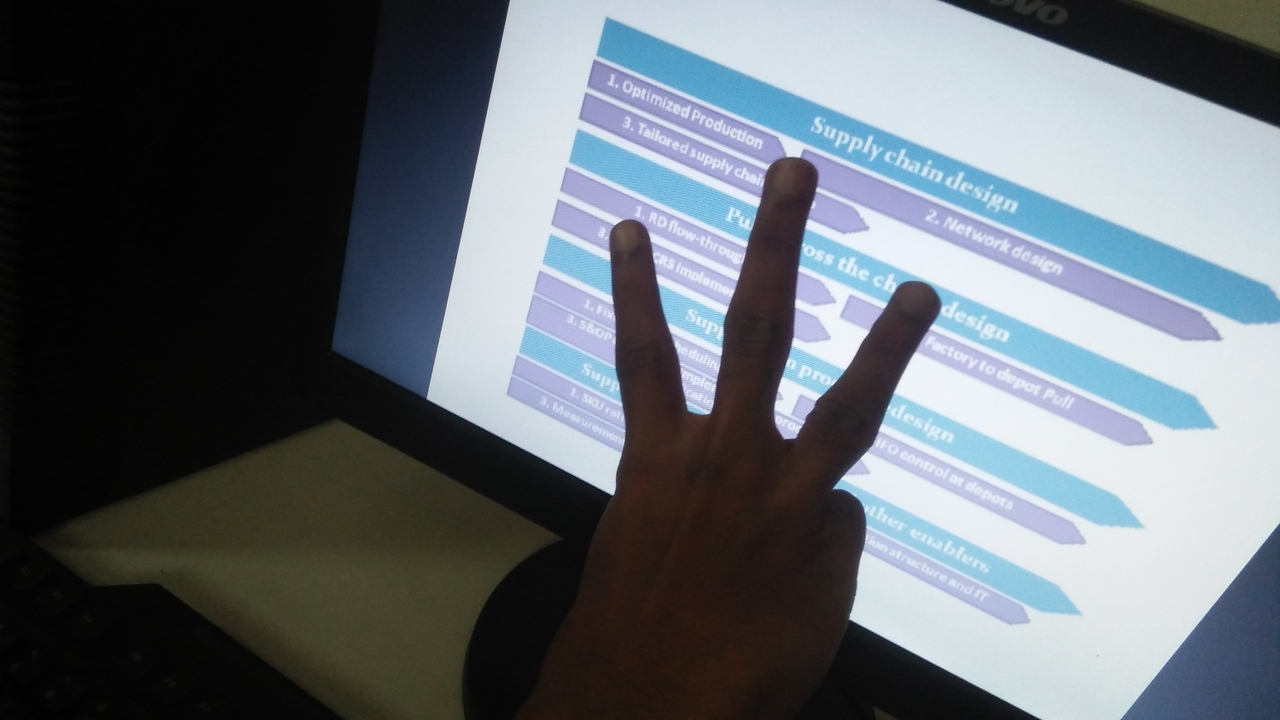fingertip: (760, 148, 824, 210), (878, 276, 948, 332), (600, 210, 658, 264)
